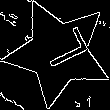L_SW: (28, 27, 88, 78)
